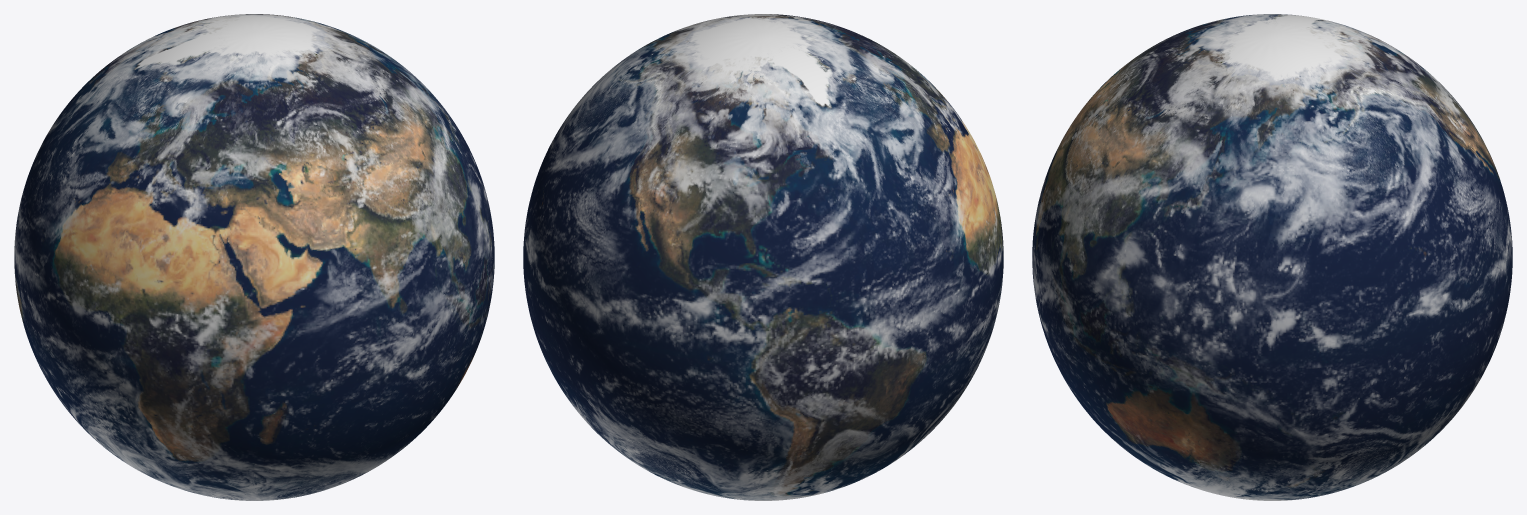
Rendered from world.glb.
3 views of the same model, side by side, from view 1: azimuth 30°, elevation 25°; view 2: azimuth 150°, elevation 25°; view 3: azimuth 270°, elevation 25° (orthographic).
Parts seen in each view (by area): view 1: pSphere1; view 2: pSphere1; view 3: pSphere1.
Part boxes in pixels (<box>): pSphere1: <box>14,14,494,500</box>; pSphere1: <box>523,14,1003,500</box>; pSphere1: <box>1032,14,1512,500</box>.
Size of the model in its own units: 0.158 by 0.1609 by 0.158.
Materials: 1 (1 with a texture image).
